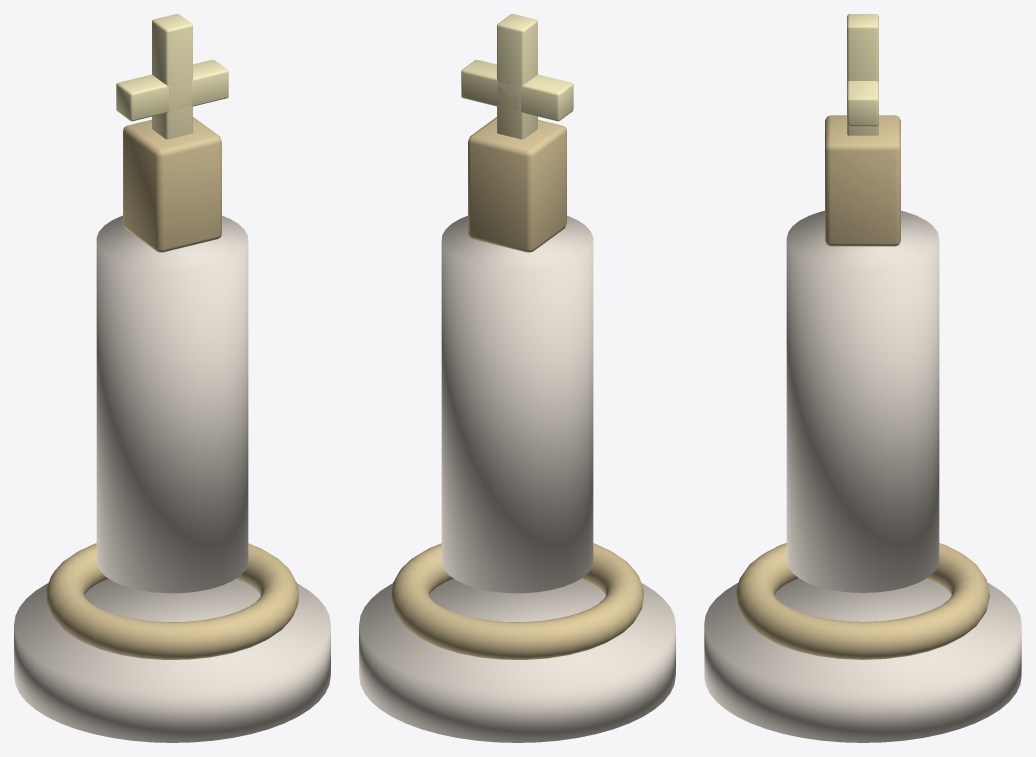
Rendered from king.glb.
The picture shows the model from 3 angles, left to right: view 1: azimuth 30°, elevation 25°; view 2: azimuth 150°, elevation 25°; view 3: azimuth 270°, elevation 25°; orthographic projection.
Parts seen in each view (by area): view 1: base, collar, cross_horizontal; view 2: base, collar, cross_horizontal; view 3: base, collar, cross_horizontal.
Part boxes in pixels (x1=…): base: x1=14, y1=215, x2=330, y2=742; collar: x1=46, y1=117, x2=298, y2=659; cross_horizontal: x1=116, y1=14, x2=228, y2=139; base: x1=359, y1=215, x2=675, y2=742; collar: x1=391, y1=117, x2=643, y2=659; cross_horizontal: x1=461, y1=14, x2=573, y2=139; base: x1=704, y1=210, x2=1021, y2=742; collar: x1=736, y1=115, x2=989, y2=659; cross_horizontal: x1=847, y1=14, x2=878, y2=135.
Size of the model in its own units: 0.5 by 1.14 by 0.5.
